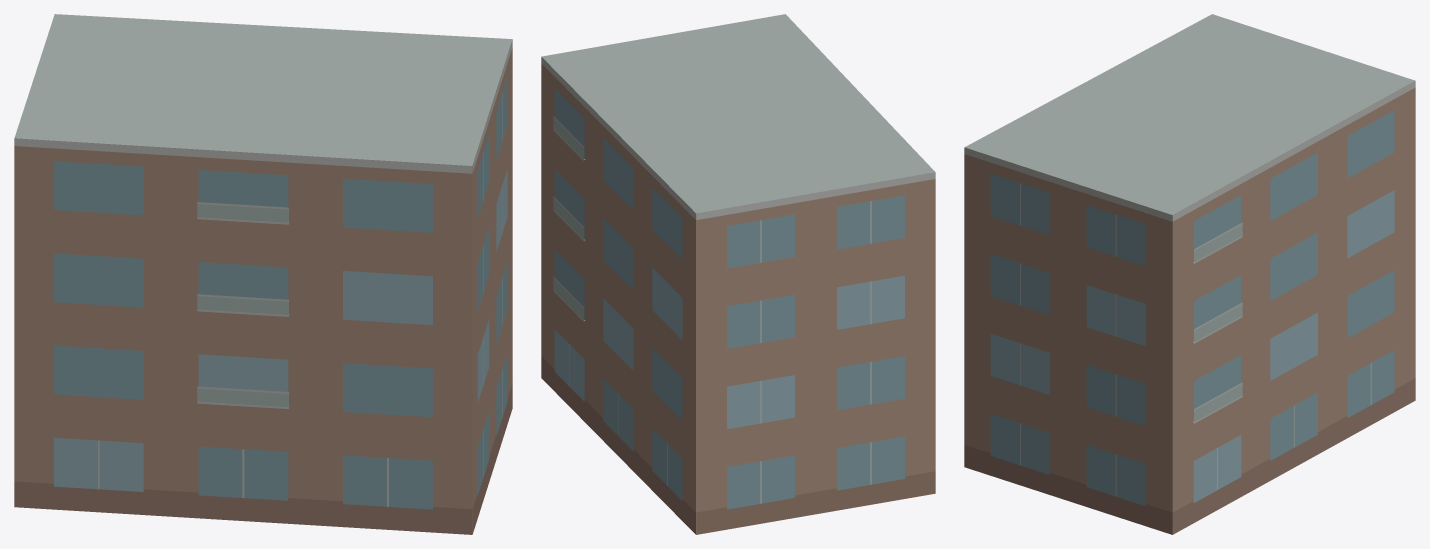
File: survey-upis-32807513.glb
3 views of the same model, side by side, from view 1: azimuth 30°, elevation 25°; view 2: azimuth 150°, elevation 25°; view 3: azimuth 270°, elevation 25° (orthographic). The views are drawn at different scales.
Visible parts, largest first — view 1: survey-upis-32807513.tmp; view 2: survey-upis-32807513.tmp; view 3: survey-upis-32807513.tmp.
Boxes of the visible parts, <box> form: survey-upis-32807513.tmp: <box>14,14,512,534</box>; survey-upis-32807513.tmp: <box>541,14,935,534</box>; survey-upis-32807513.tmp: <box>964,14,1415,534</box>.
Bounding box in the file's own units: 15.79 × 11.7 × 14.97.
